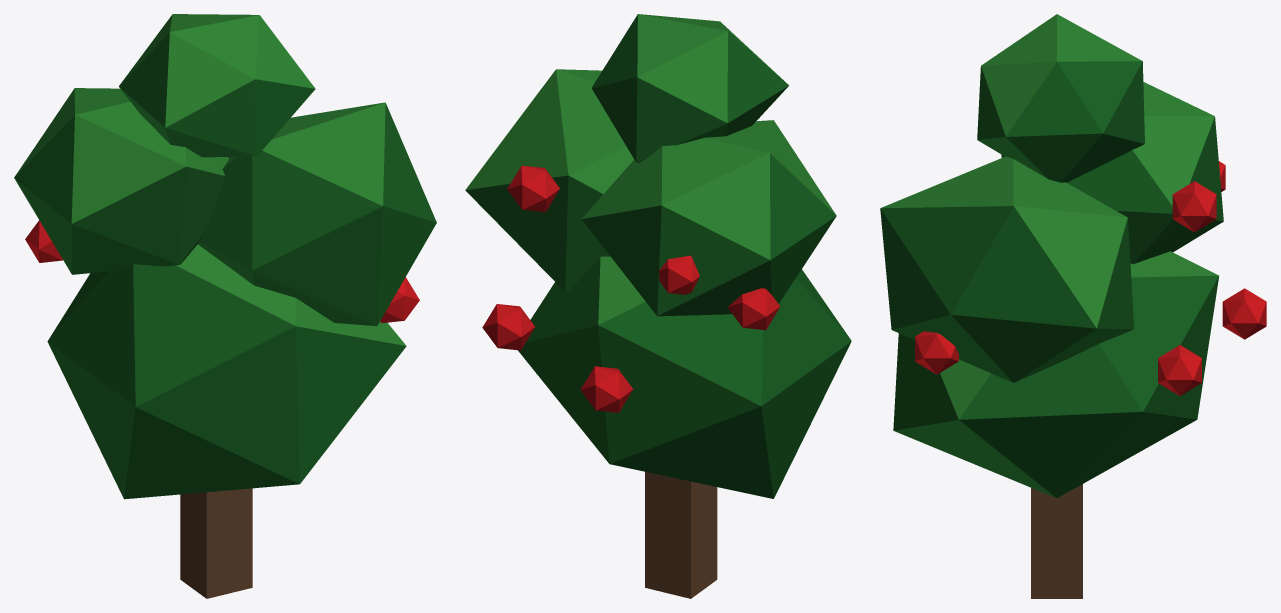
Rendered from cafeto.obj.
3 views of the same model, side by side, from view 1: azimuth 30°, elevation 25°; view 2: azimuth 150°, elevation 25°; view 3: azimuth 270°, elevation 25° (orthographic). The views are drawn at different scales.
Parts seen in each view (by area): view 1: cafeto; view 2: cafeto; view 3: cafeto.
Part boxes in pixels (box(x1,y1,x2,y2)): cafeto: box(14, 14, 436, 598); cafeto: box(465, 14, 851, 598); cafeto: box(880, 14, 1266, 598).
Bounding box in the file's own units: 0.4519 × 0.7038 × 0.4469.
